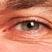eye: (22, 21, 39, 31)
